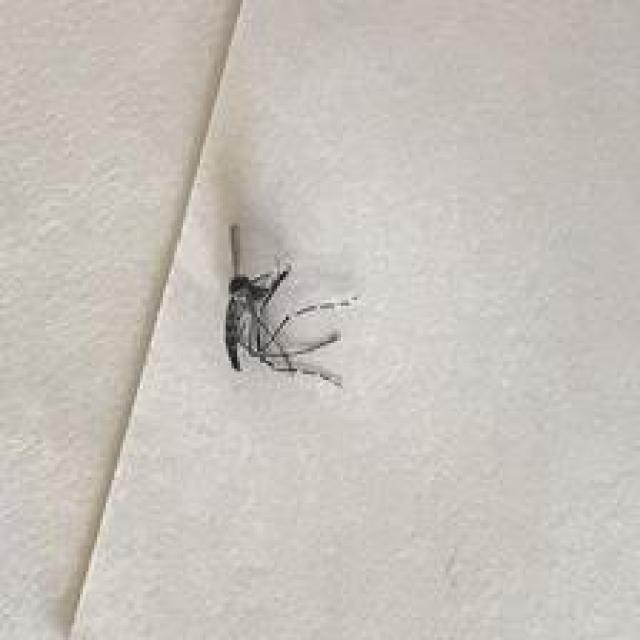Aedes albopictus: (222, 221, 358, 390)
